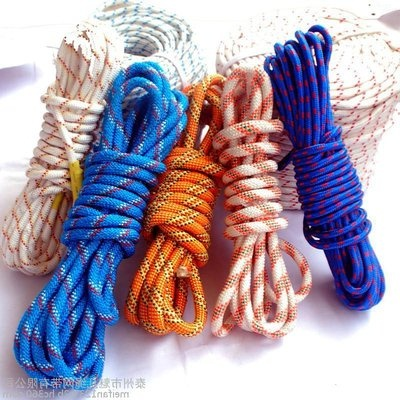9/可回收垃圾/绳子: (13, 61, 190, 392), (213, 7, 400, 210), (263, 25, 387, 312), (1, 17, 124, 276), (122, 73, 228, 338), (212, 64, 312, 339), (89, 1, 208, 91)
